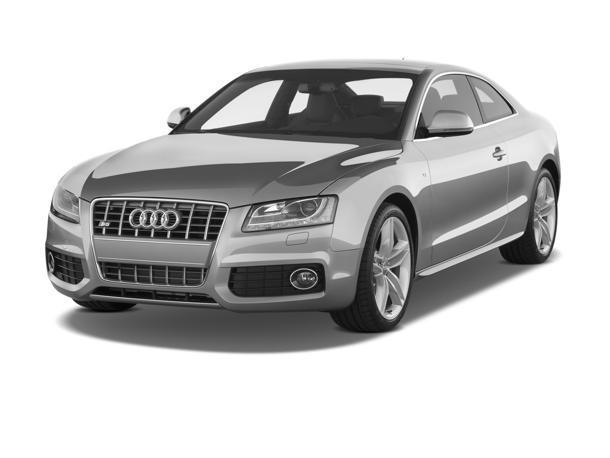car: (18, 53, 595, 357)
